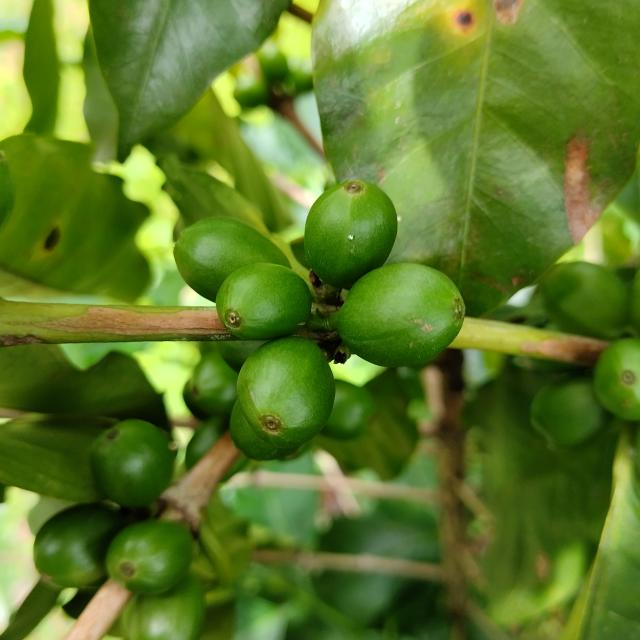green: (337, 263, 466, 367), (229, 337, 335, 461), (304, 180, 398, 288), (173, 216, 291, 301), (32, 504, 122, 589), (215, 262, 312, 340), (90, 420, 174, 508), (105, 520, 193, 595), (595, 338, 640, 421)
